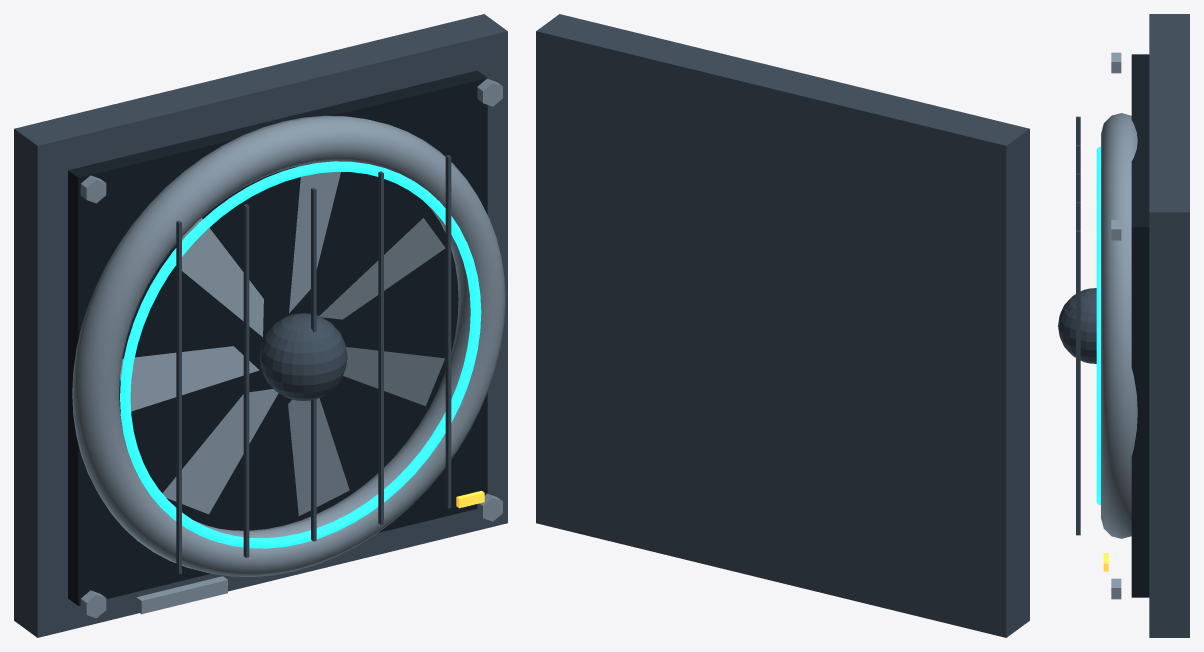
Rendered from vent.glb.
3 renders of one model, left to right at view 1: azimuth 30°, elevation 25°; view 2: azimuth 150°, elevation 25°; view 3: azimuth 270°, elevation 25°, orthographic. The views are drawn at different scales.
Visible parts, largest first — view 1: Dark turbine recess, Wall mount plate, Heavy housing, Inner light guide, Turbine central cap, Swept blade 4, Swept blade 5, Swept blade 3, Swept blade 6, Swept blade 1, Swept blade 2, Swept blade 0 (+6 smaller); view 2: Wall mount plate; view 3: Wall mount plate, Heavy housing, Dark turbine recess, Turbine central cap, Inner light guide, Protective grille.004, Mounting bolt.001, Mounting bolt.002, Mounting bolt.003.
Boxes of the visible parts, x1,y1,x2,y2 form: Dark turbine recess: (68,70,487,605); Wall mount plate: (14,14,507,637); Heavy housing: (72,115,505,576); Inner light guide: (120,161,481,548); Turbine central cap: (259,313,347,400); Swept blade 4: (162,389,278,514); Swept blade 5: (120,346,259,411); Swept blade 3: (288,398,349,515); Swept blade 6: (176,218,263,336); Swept blade 1: (319,218,445,319); Swept blade 2: (343,347,444,406); Swept blade 0: (289,172,340,313); Wall mount plate: (536,14,1029,637); Wall mount plate: (1149,14,1189,637); Heavy housing: (1101,113,1137,538); Dark turbine recess: (1131,54,1149,597); Turbine central cap: (1058,288,1096,363); Inner light guide: (1096,146,1100,505); Protective grille.004: (1076,230,1080,535); Mounting bolt.001: (1111,52,1121,73); Mounting bolt.002: (1111,578,1121,599); Mounting bolt.003: (1111,220,1121,240).
Bounding box in the file's own units: 1.85 × 1.85 × 0.52.
